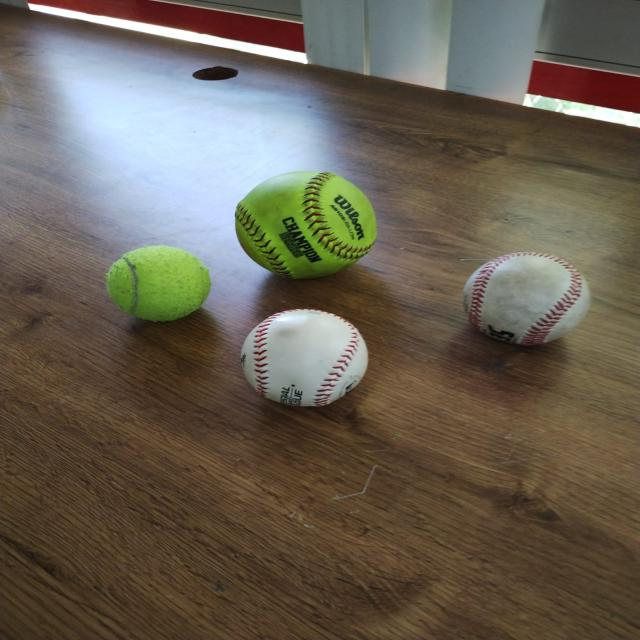beisbol ball: (452, 250, 594, 350), (239, 310, 370, 407)
softball ball: (234, 171, 378, 279)
tenis ball: (104, 245, 213, 321)
